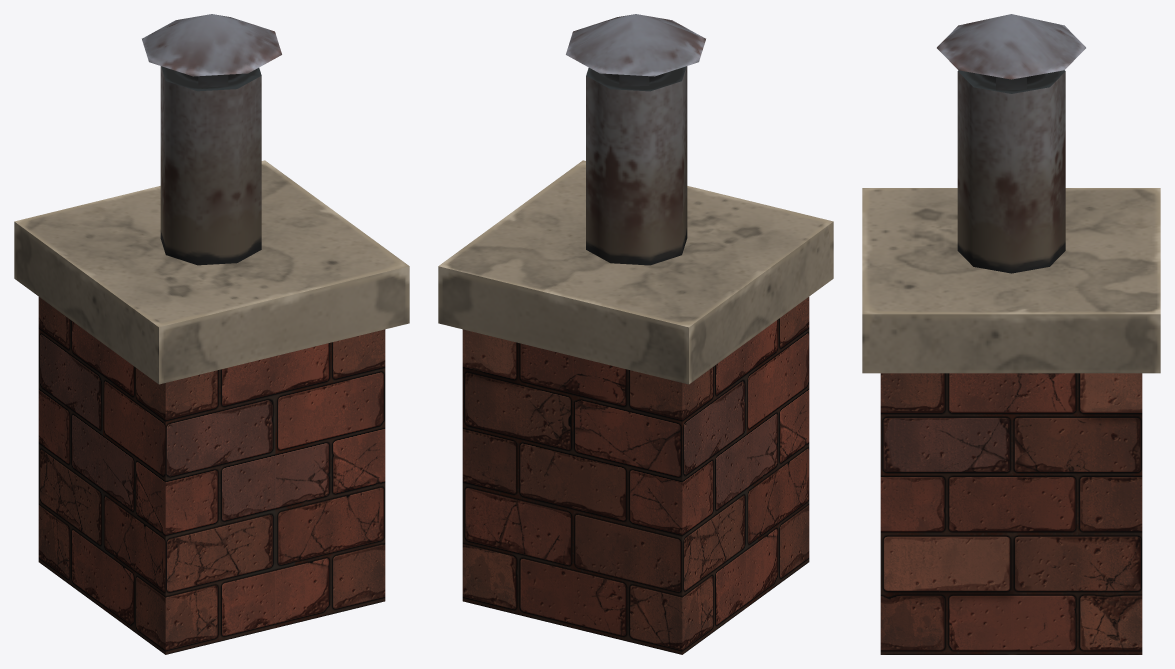
The model's file is chimney_roof04.fbx.
The picture shows the model from 3 angles, left to right: view 1: azimuth 30°, elevation 25°; view 2: azimuth 150°, elevation 25°; view 3: azimuth 270°, elevation 25°; orthographic projection. The views are drawn at different scales.
Parts seen in each view (by area): view 1: chimney_roof04; view 2: chimney_roof04; view 3: chimney_roof04.
Boxes of the visible parts, x1=… form: chimney_roof04: x1=14, y1=14, x2=409, y2=654; chimney_roof04: x1=438, y1=14, x2=833, y2=654; chimney_roof04: x1=862, y1=14, x2=1160, y2=654.
Size of the model in its own units: 114 by 247 by 114.
